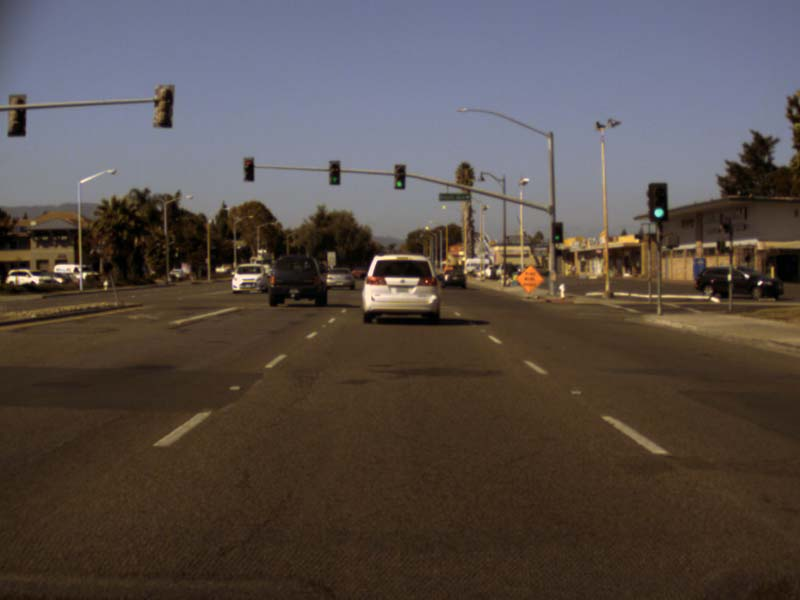Green: (648, 184, 665, 221), (328, 159, 340, 184), (393, 164, 405, 188), (552, 223, 563, 243)
Red: (242, 158, 253, 180)
